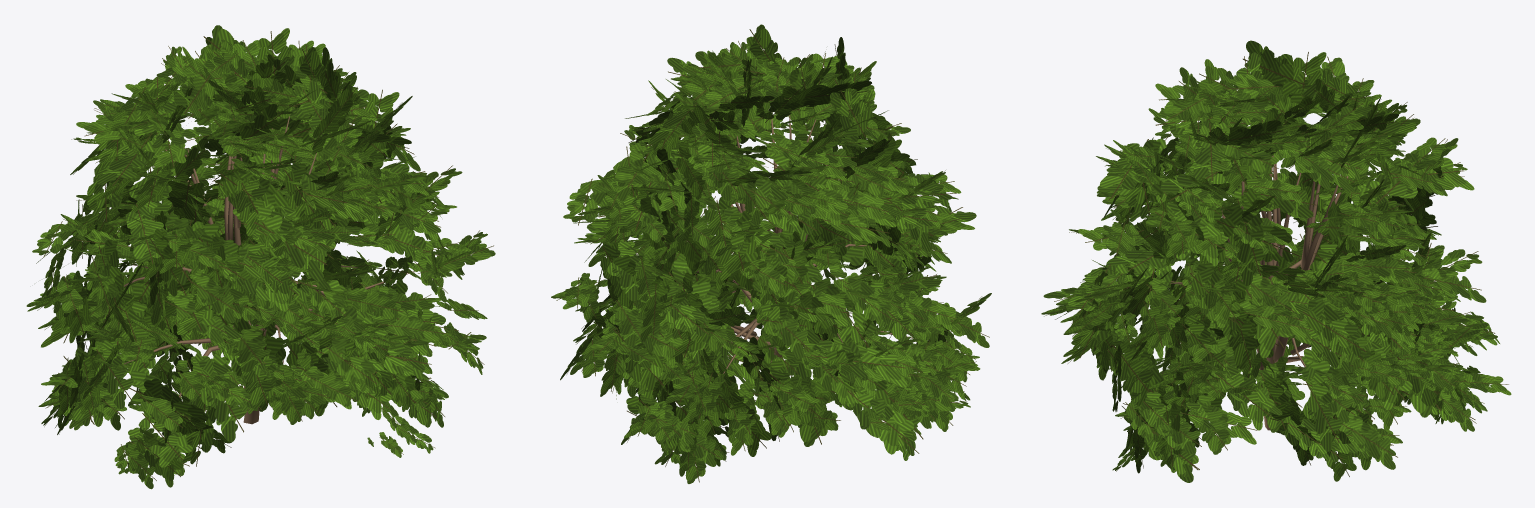
The model's file is near.glb.
3 views of the same model, side by side, from view 1: azimuth 30°, elevation 25°; view 2: azimuth 150°, elevation 25°; view 3: azimuth 270°, elevation 25° (orthographic). The views are drawn at different scales.
Visible parts, largest first — view 1: foliage, bark; view 2: foliage, bark; view 3: foliage, bark.
Boxes of the visible parts, <box> form: foliage: <box>26,25,495,489</box>; bark: <box>123,114,414,424</box>; foliage: <box>551,24,991,483</box>; bark: <box>696,115,915,373</box>; foliage: <box>1041,40,1511,482</box>; bark: <box>1127,155,1369,430</box>.
Bounding box in the file's own units: 12.89 × 10.96 × 12.9.
Materials: 2 (1 with a texture image).
